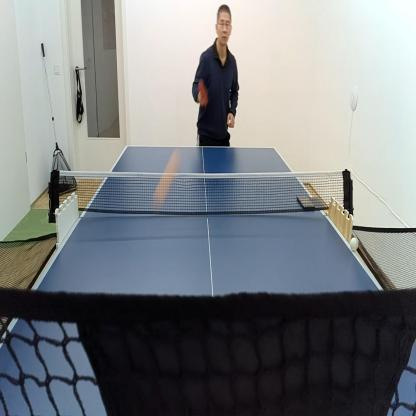Ball: (153, 147, 179, 203)
